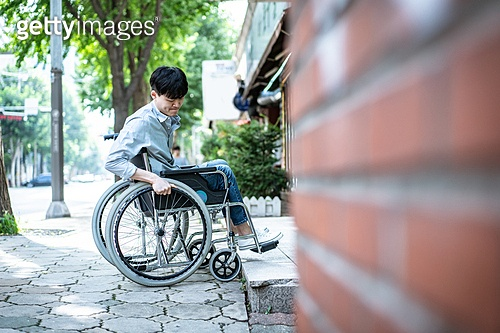wheelchair: (91, 66, 286, 286)
